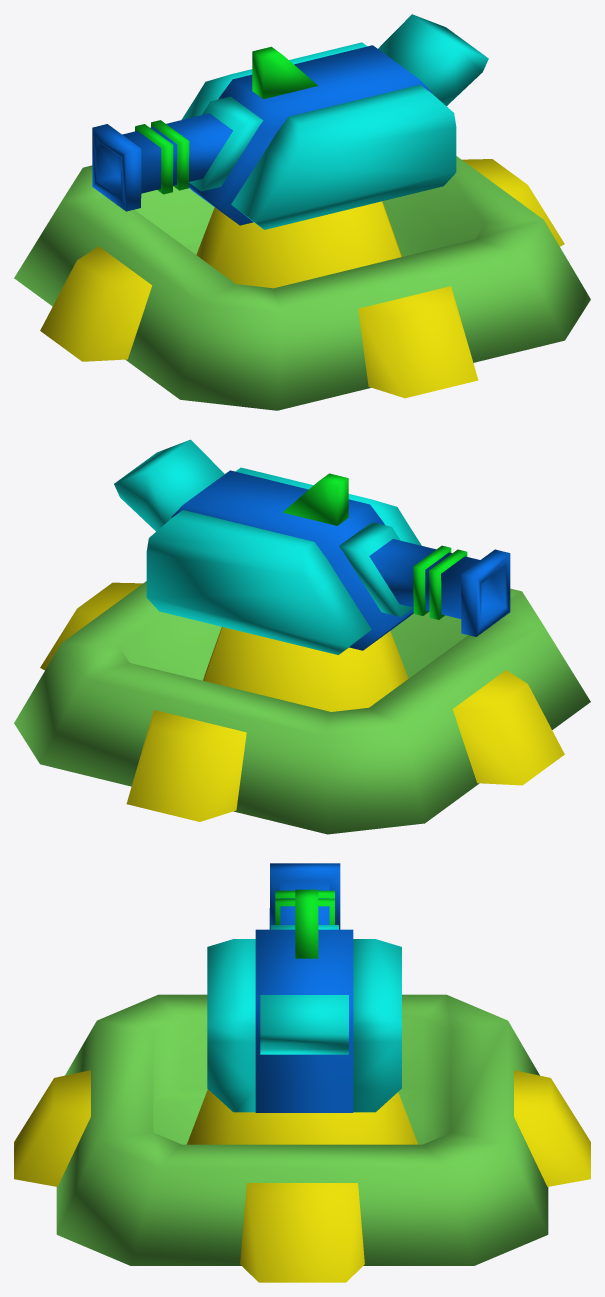
Rendered from Turret.fbx.
3 views of the same model, one above another, from view 1: azimuth 30°, elevation 25°; view 2: azimuth 150°, elevation 25°; view 3: azimuth 270°, elevation 25° (orthographic). The views are drawn at different scales.
Parts seen in each view (by area): view 1: Cube.011, Cube.010, Cube.013, Cube.012; view 2: Cube.011, Cube.010, Cube.013, Cube.012; view 3: Cube.011, Cube.013, Cube.010, Cube.012.
Boxes of the visible parts, box(x1,y1,x2,y2) form: Cube.011: box(14, 156, 590, 410); Cube.010: box(181, 42, 456, 229); Cube.013: box(189, 14, 488, 225); Cube.012: box(92, 96, 263, 211); Cube.011: box(14, 581, 590, 834); Cube.010: box(146, 467, 421, 654); Cube.013: box(114, 439, 413, 650); Cube.012: box(339, 522, 510, 636); Cube.011: box(14, 994, 590, 1282); Cube.013: box(255, 889, 353, 1112); Cube.010: box(207, 939, 401, 1112); Cube.012: box(269, 863, 340, 929).
Size of the model in its own units: 280 by 134 by 280.
